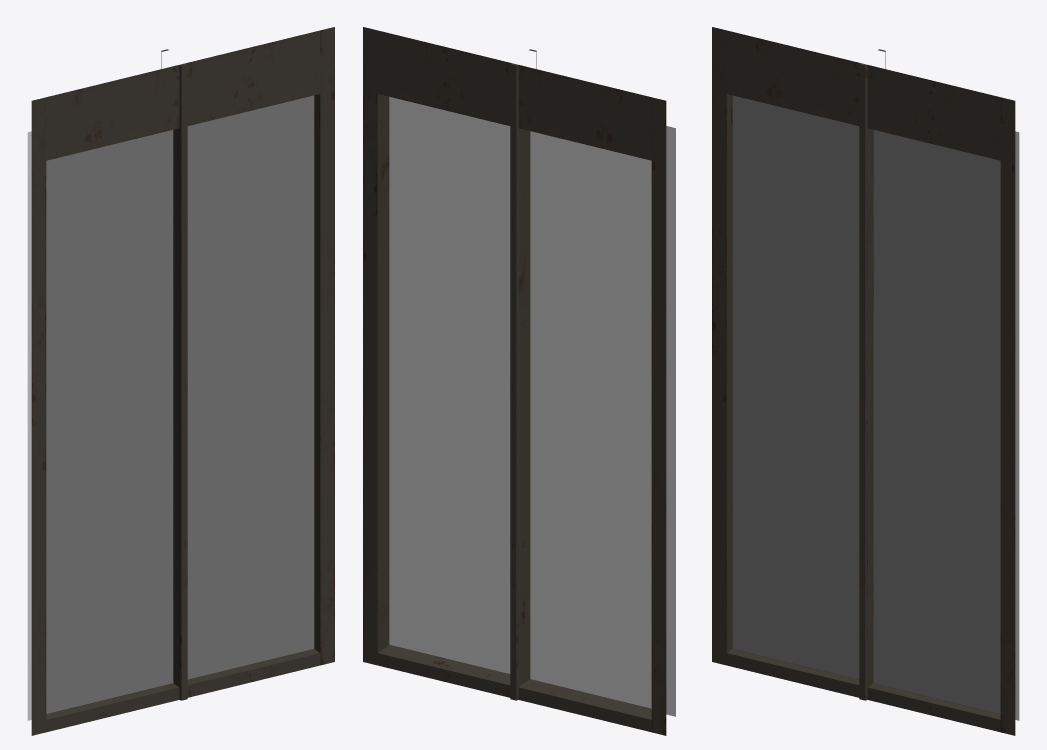
Rendered from mod-parede-vidro.gltf.
3 views of the same model, side by side, from view 1: azimuth 30°, elevation 25°; view 2: azimuth 150°, elevation 25°; view 3: azimuth 330°, elevation 25° (orthographic).
Parts seen in each view (by area): view 1: Metal_FullWindow; view 2: Metal_FullWindow; view 3: Metal_FullWindow.
Boxes of the visible parts, x1,y1,x2,y2 form: Metal_FullWindow: (27,27,334,735); Metal_FullWindow: (363,27,675,735); Metal_FullWindow: (712,27,1019,735).
Size of the model in its own units: 1 by 2 by 0.1155.
Materials: 3 (1 with a texture image).
